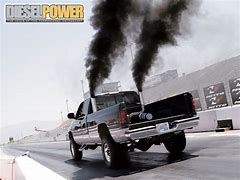smoke: (130, 1, 190, 90), (84, 1, 127, 91)
